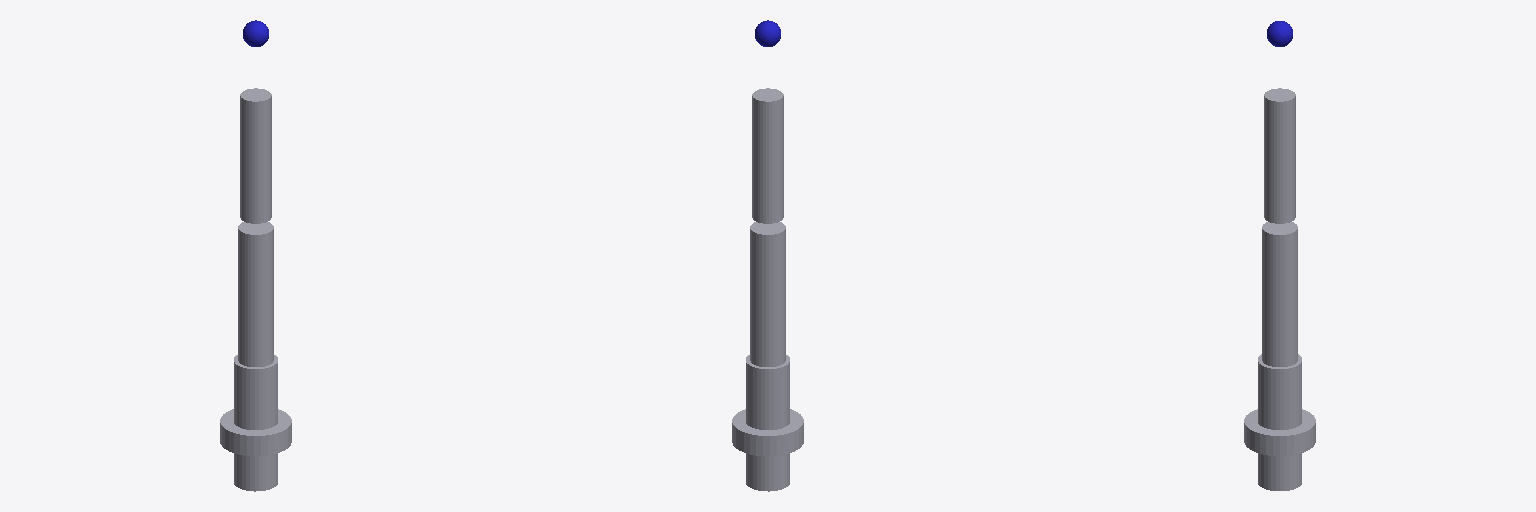
The robot description file, URDF, robot "simple_arm":
<?xml version="1.0" encoding="UTF-8"?>
<robot name="simple_arm">
  <material name="metal">
    <color rgba="0.7 0.7 0.75 1.0"/>
  </material>
  <material name="joint_color">
    <color rgba="0.2 0.2 0.8 1.0"/>
  </material>

  <link name="base_link">
    <visual>
      <geometry><cylinder radius="0.08" length="0.05"/></geometry>
      <material name="metal"/>
    </visual>
    <collision>
      <geometry><cylinder radius="0.08" length="0.05"/></geometry>
    </collision>
    <inertial>
      <mass value="5.0"/>
      <origin xyz="0 0 0"/>
      <inertia ixx="0.0080" iyy="0.0080" izz="0.0160" ixy="0" ixz="0" iyz="0"/>
    </inertial>
  </link>

  <link name="shoulder_link">
    <visual>
      <geometry><cylinder radius="0.05" length="0.30"/></geometry>
      <material name="metal"/>
    </visual>
    <collision>
      <geometry><cylinder radius="0.05" length="0.30"/></geometry>
    </collision>
    <inertial>
      <mass value="3.0"/>
      <origin xyz="0 0 0.15"/>
      <inertia ixx="0.0250" iyy="0.0250" izz="0.0038" ixy="0" ixz="0" iyz="0"/>
    </inertial>
  </link>
  <joint name="shoulder_pan" type="revolute">
    <parent link="base_link"/>
    <child link="shoulder_link"/>
    <origin xyz="0 0 0.025" rpy="0 0 0"/>
    <axis xyz="0 0 1"/>
    <limit lower="-3.14" upper="3.14" effort="150" velocity="3.0"/>
    <dynamics damping="1.0" friction="0.1"/>
  </joint>

  <link name="upper_arm_link">
    <visual>
      <geometry><cylinder radius="0.04" length="0.35"/></geometry>
      <material name="metal"/>
    </visual>
    <collision>
      <geometry><cylinder radius="0.04" length="0.35"/></geometry>
    </collision>
    <inertial>
      <mass value="2.5"/>
      <origin xyz="0 0 0.175"/>
      <inertia ixx="0.0280" iyy="0.0280" izz="0.0020" ixy="0" ixz="0" iyz="0"/>
    </inertial>
  </link>
  <joint name="shoulder_lift" type="revolute">
    <parent link="shoulder_link"/>
    <child link="upper_arm_link"/>
    <origin xyz="0 0 0.30" rpy="0 0 0"/>
    <axis xyz="0 1 0"/>
    <limit lower="-1.57" upper="1.57" effort="150" velocity="3.0"/>
    <dynamics damping="1.0" friction="0.1"/>
  </joint>

  <link name="forearm_link">
    <visual>
      <geometry><cylinder radius="0.035" length="0.30"/></geometry>
      <material name="metal"/>
    </visual>
    <collision>
      <geometry><cylinder radius="0.035" length="0.30"/></geometry>
    </collision>
    <inertial>
      <mass value="1.5"/>
      <origin xyz="0 0 0.15"/>
      <inertia ixx="0.0120" iyy="0.0120" izz="0.0009" ixy="0" ixz="0" iyz="0"/>
    </inertial>
  </link>
  <joint name="elbow" type="revolute">
    <parent link="upper_arm_link"/>
    <child link="forearm_link"/>
    <origin xyz="0 0 0.35" rpy="0 0 0"/>
    <axis xyz="0 1 0"/>
    <limit lower="-2.61" upper="0.0" effort="100" velocity="3.0"/>
    <dynamics damping="0.5" friction="0.1"/>
  </joint>

  <link name="wrist_link">
    <visual>
      <geometry><sphere radius="0.03"/></geometry>
      <material name="joint_color"/>
    </visual>
    <collision>
      <geometry><sphere radius="0.03"/></geometry>
    </collision>
    <inertial>
      <mass value="0.5"/>
      <origin xyz="0 0 0"/>
      <inertia ixx="0.0002" iyy="0.0002" izz="0.0002" ixy="0" ixz="0" iyz="0"/>
    </inertial>
  </link>
  <joint name="wrist" type="revolute">
    <parent link="forearm_link"/>
    <child link="wrist_link"/>
    <origin xyz="0 0 0.30" rpy="0 0 0"/>
    <axis xyz="0 0 1"/>
    <limit lower="-3.14" upper="3.14" effort="50" velocity="5.0"/>
    <dynamics damping="0.3" friction="0.05"/>
  </joint>
</robot>

--- What the picture shows (computed from the rendered views, not written in the file) ---
Views: 3 orthographic renders of the robot side by side, from view 1: azimuth 30°, elevation 25°; view 2: azimuth 150°, elevation 25°; view 3: azimuth 270°, elevation 25°.
Model simple_arm with 5 links and 4 joints (4 revolute), rooted at base_link, posed all joints at 0.
Links seen in each view (by area): view 1: upper_arm_link, shoulder_link, forearm_link, base_link, wrist_link; view 2: upper_arm_link, shoulder_link, forearm_link, base_link, wrist_link; view 3: upper_arm_link, shoulder_link, forearm_link, base_link, wrist_link.
Boxes of the visible links, x1,y1,x2,y2 form: upper_arm_link: [238, 222, 273, 366]; shoulder_link: [234, 355, 277, 491]; forearm_link: [240, 88, 271, 223]; base_link: [220, 409, 291, 455]; wrist_link: [243, 20, 268, 46]; upper_arm_link: [750, 222, 785, 366]; shoulder_link: [746, 355, 789, 491]; forearm_link: [752, 88, 783, 223]; base_link: [732, 409, 803, 455]; wrist_link: [755, 20, 780, 46]; upper_arm_link: [1262, 222, 1297, 366]; shoulder_link: [1258, 354, 1301, 490]; forearm_link: [1264, 88, 1295, 223]; base_link: [1244, 409, 1315, 455]; wrist_link: [1267, 21, 1292, 46].
Bounding box of the posed robot: 0.16 × 0.16 × 1.13 m (x, y, z).
Geometry: primitives only (box / cylinder / sphere), no mesh files.
